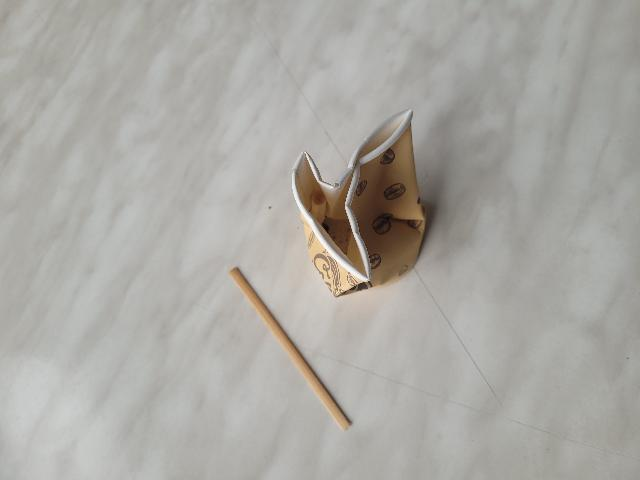Kagit: (285, 111, 433, 298), (229, 271, 356, 431)
